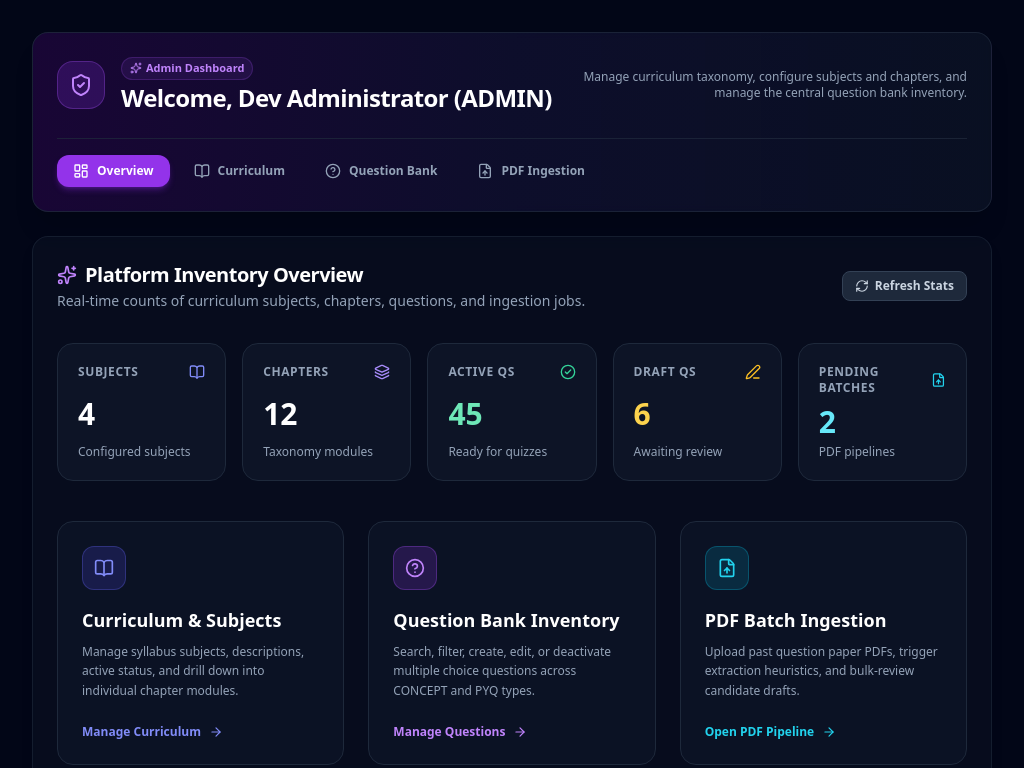
Test case: Admin Dashboard Summary & Workflow (PROMPT 24) › navigates to PDF Ingestion when clicking PDF Pipeline card
Click the heading "PDF Batch Ingestion": [796, 620] box [705,608,886,632]
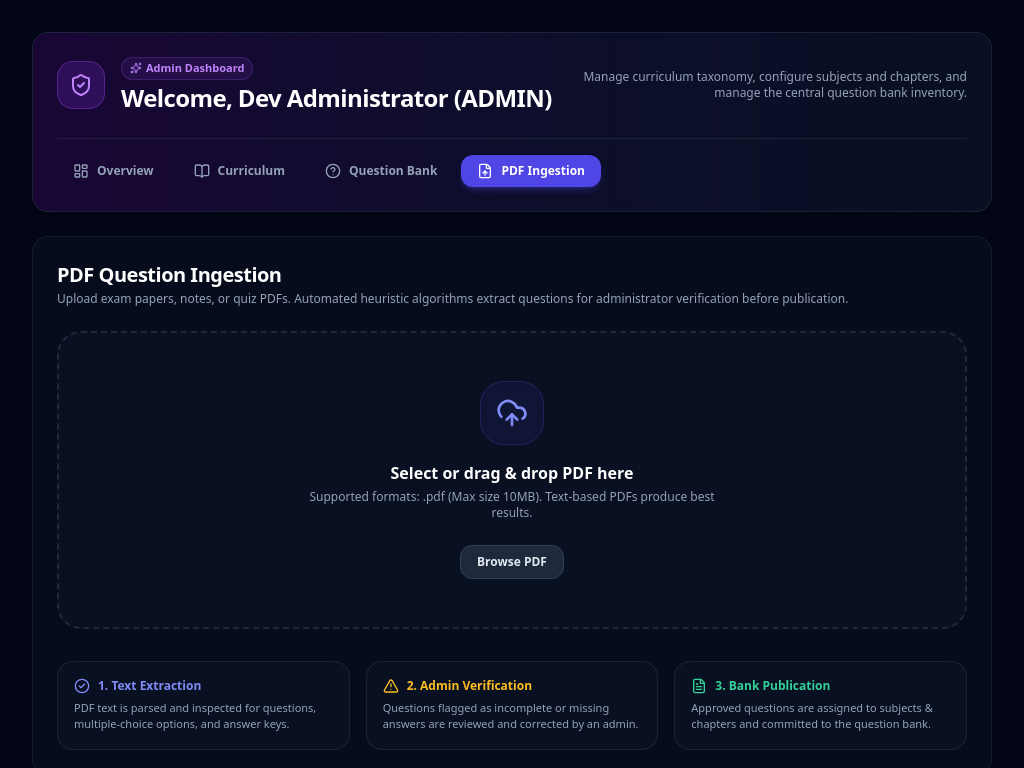
expect the heading "PDF Question Ingestion" is shown: met, box [57,260,282,288]
